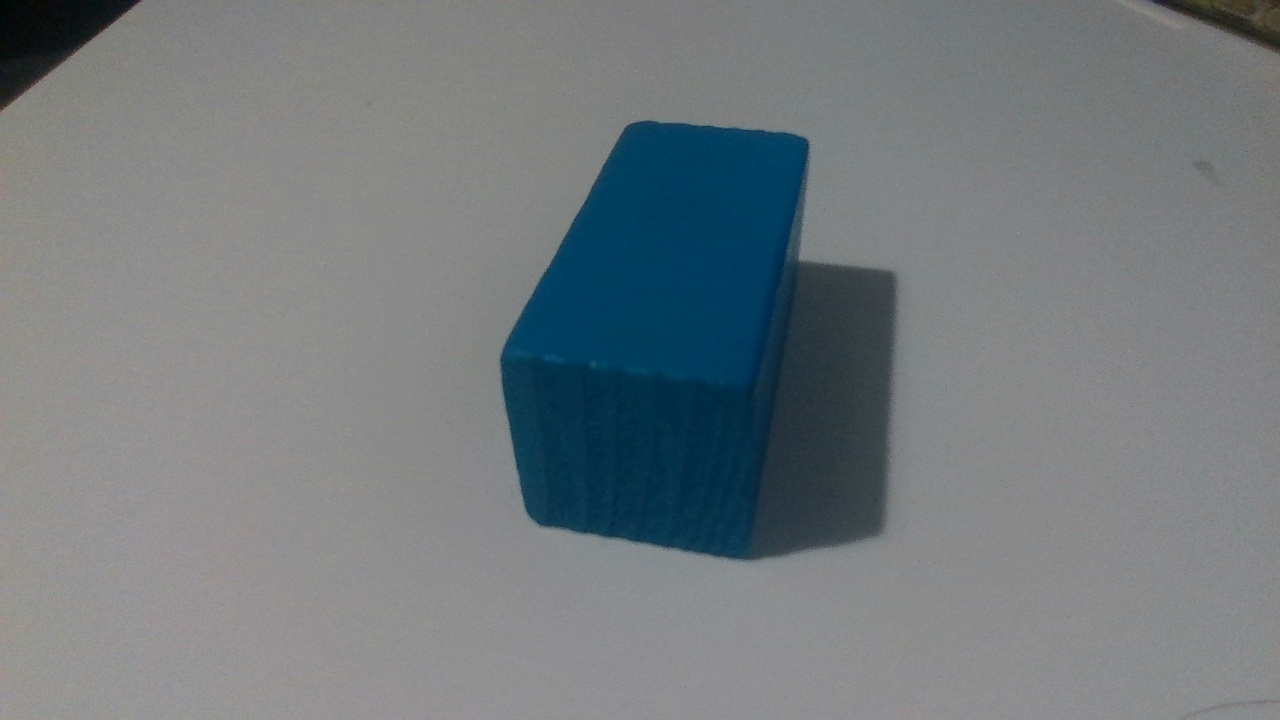cube: (435, 135, 640, 486)
